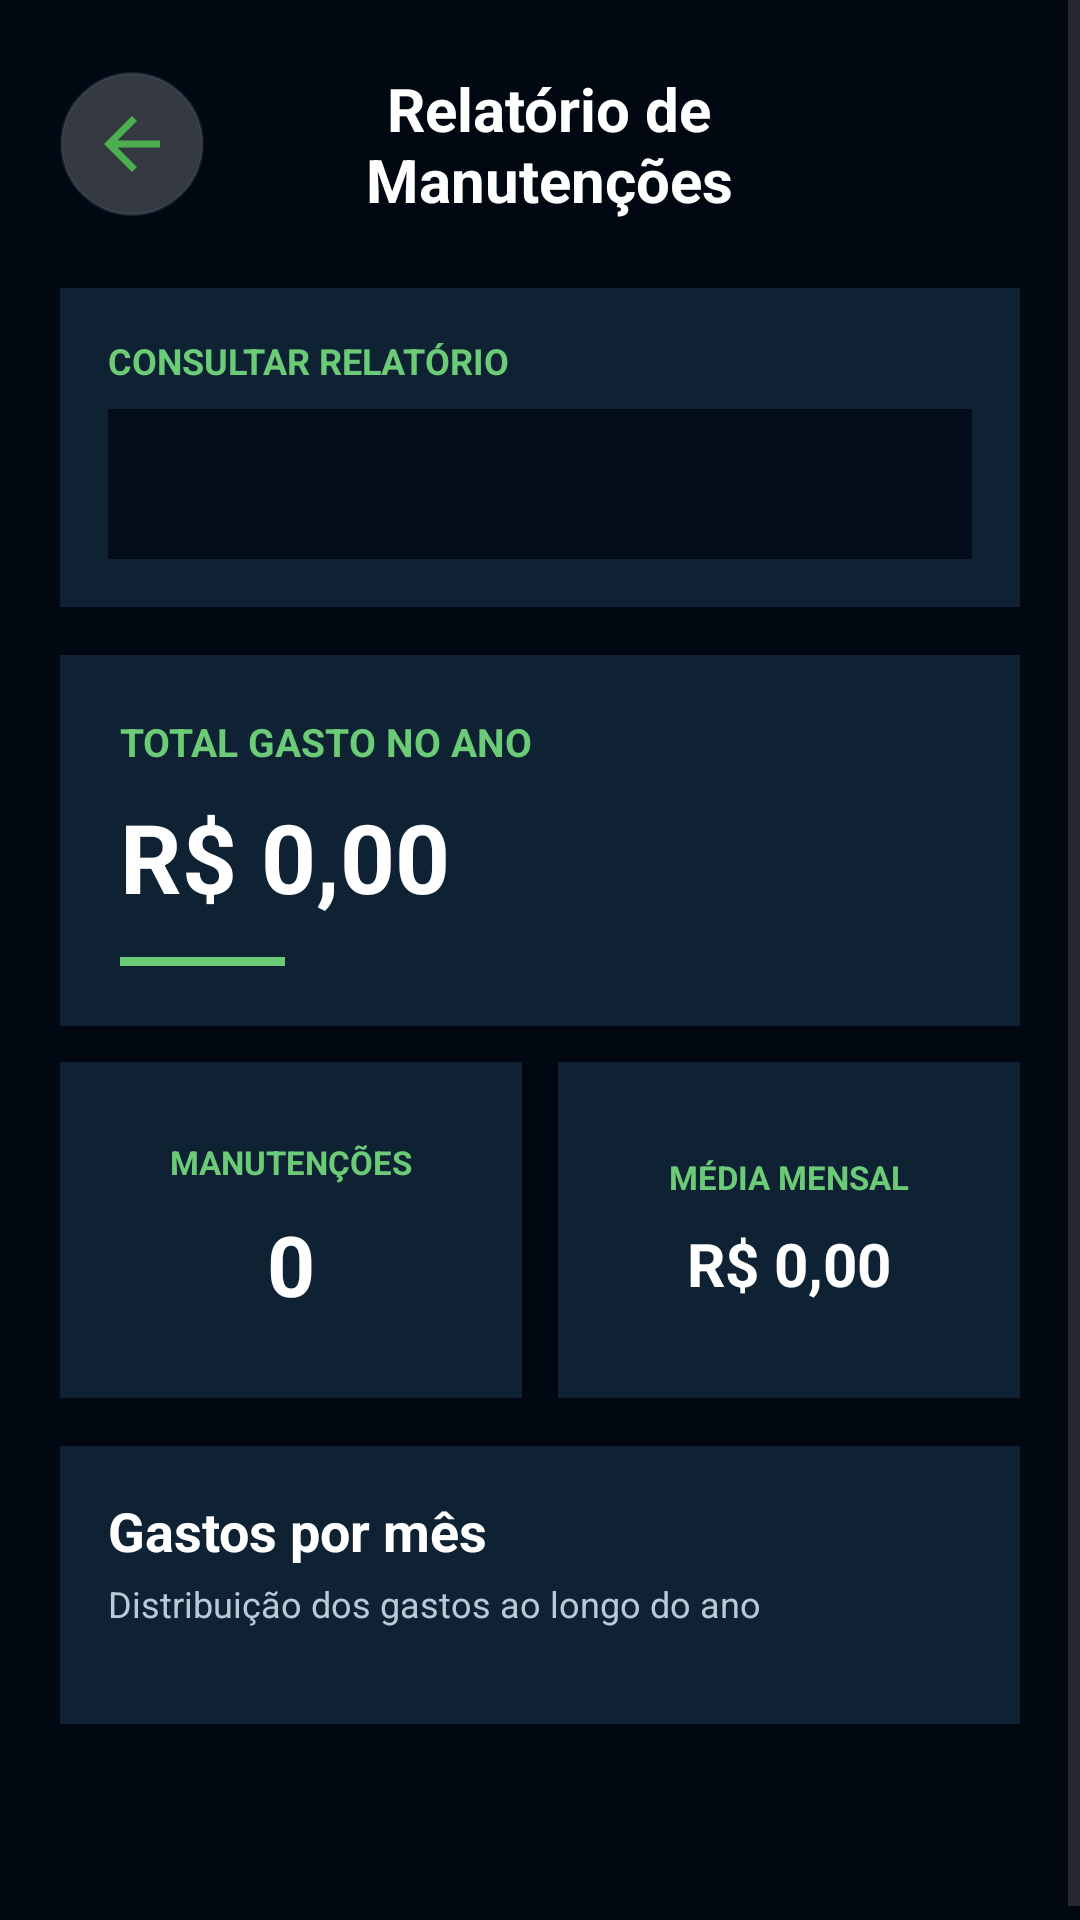

Point at icon controls on the screen. Image size 1080px x 1920px, points as [x,y].
Voltar: [131,144]
